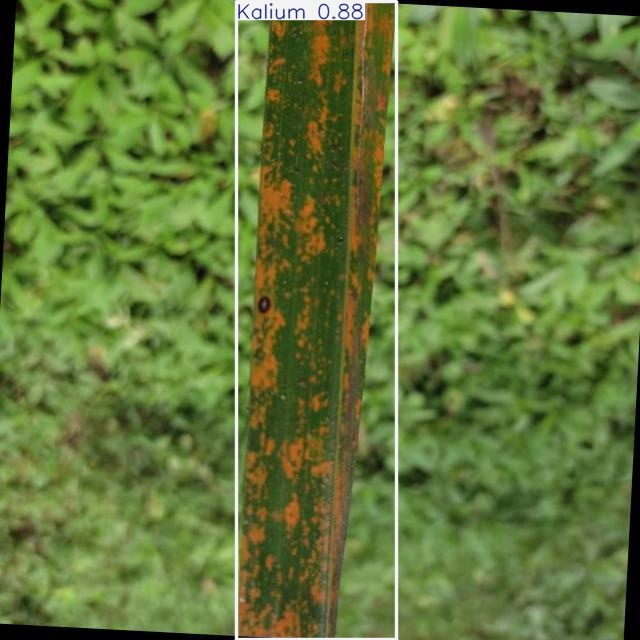Kalium: (236, 1, 396, 639)
